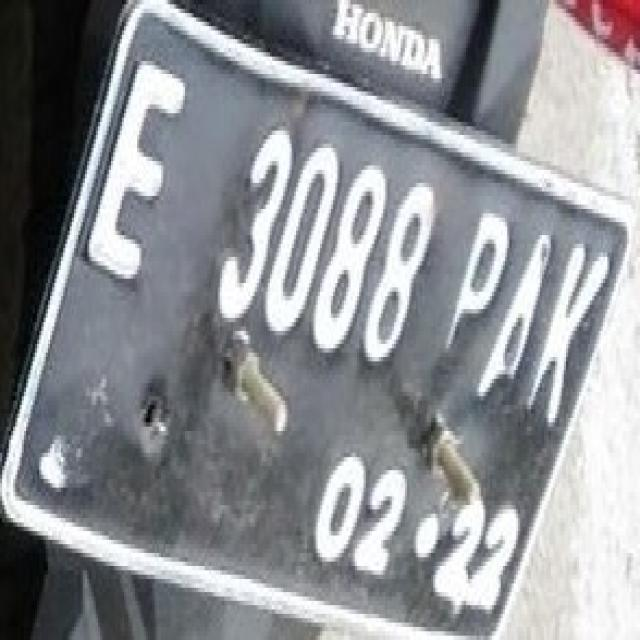plate: (4, 0, 627, 636)
